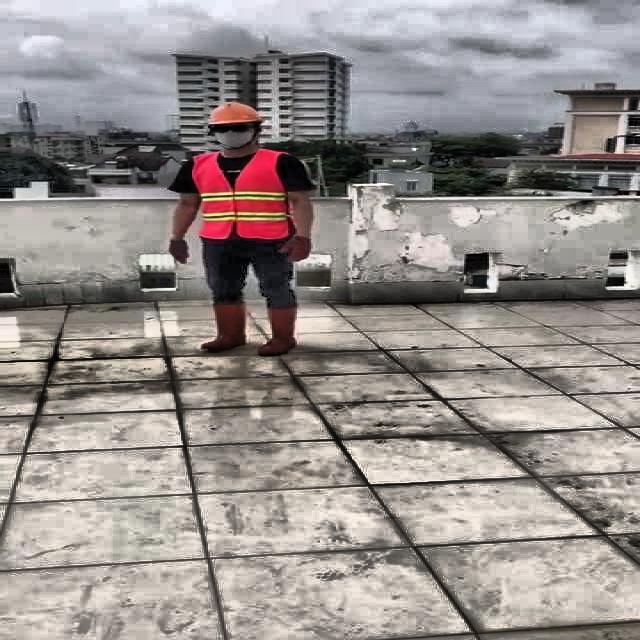safety_helmet: (205, 102, 263, 125)
safety_jacket: (192, 152, 295, 240)
